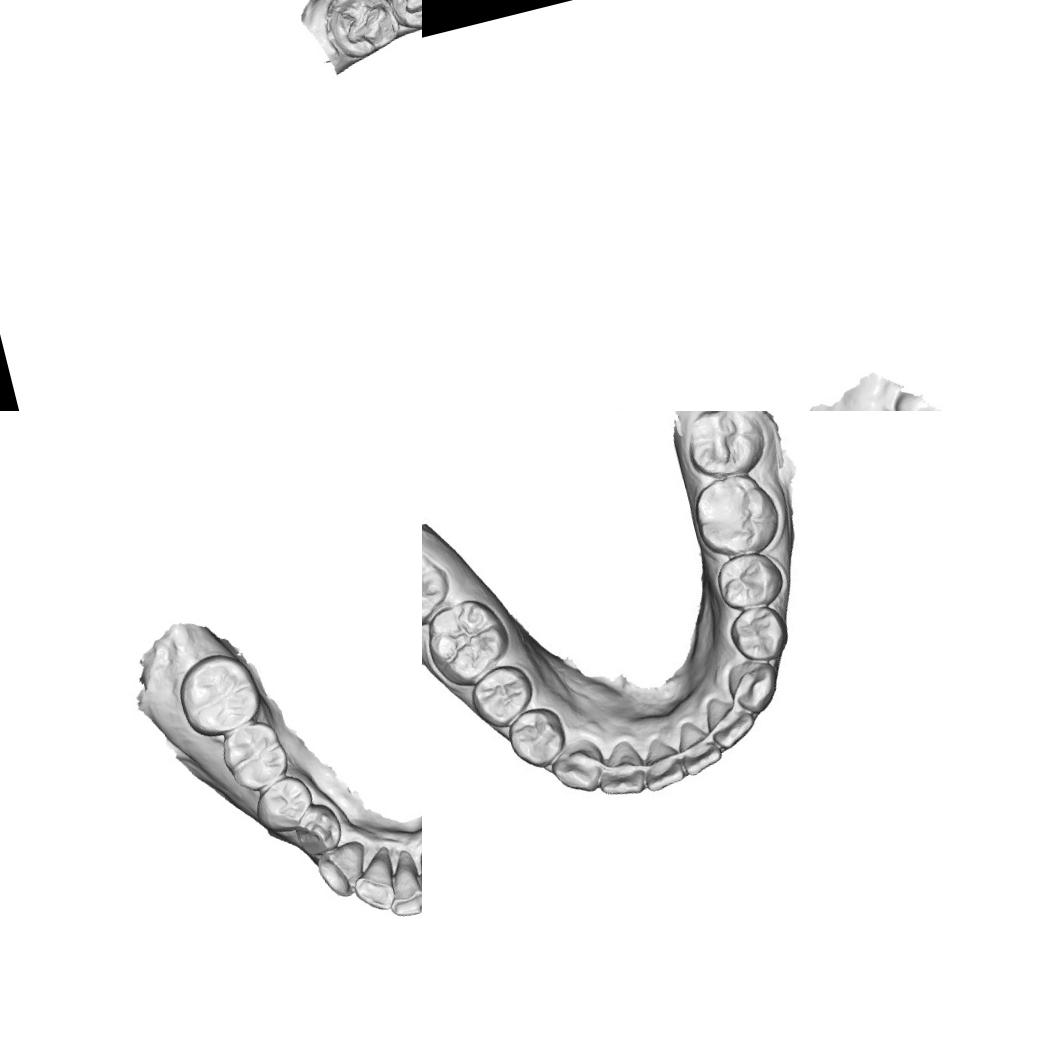canine: (722, 651, 788, 720), (310, 838, 378, 902), (546, 735, 608, 799)
incisor: (702, 688, 764, 754), (631, 732, 692, 795), (588, 738, 646, 802), (671, 714, 725, 780), (346, 851, 401, 914), (378, 853, 422, 922)
inlay: (323, 0, 397, 58)
molar: (688, 466, 786, 564), (170, 645, 266, 743), (422, 594, 516, 691), (679, 411, 770, 484), (216, 715, 292, 795), (422, 542, 456, 634)
premolar: (464, 660, 542, 730), (722, 599, 795, 673), (712, 547, 786, 615), (247, 770, 320, 838), (502, 704, 569, 775), (288, 800, 344, 859)
